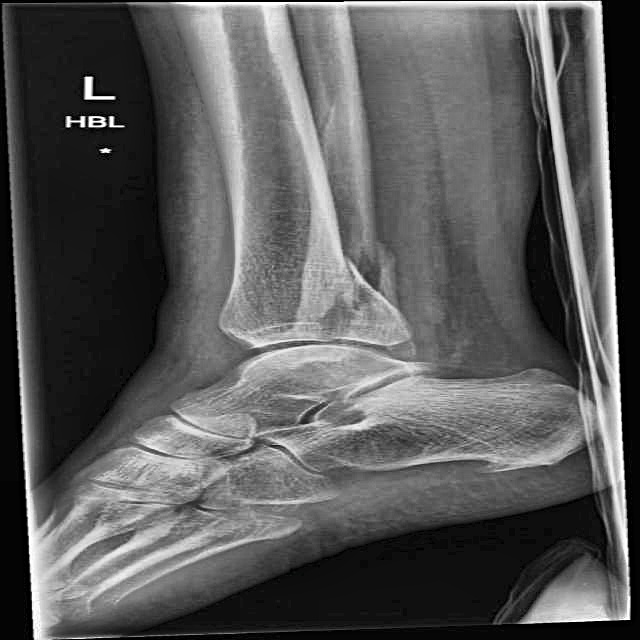Oblique Displaced: (305, 224, 431, 358)
